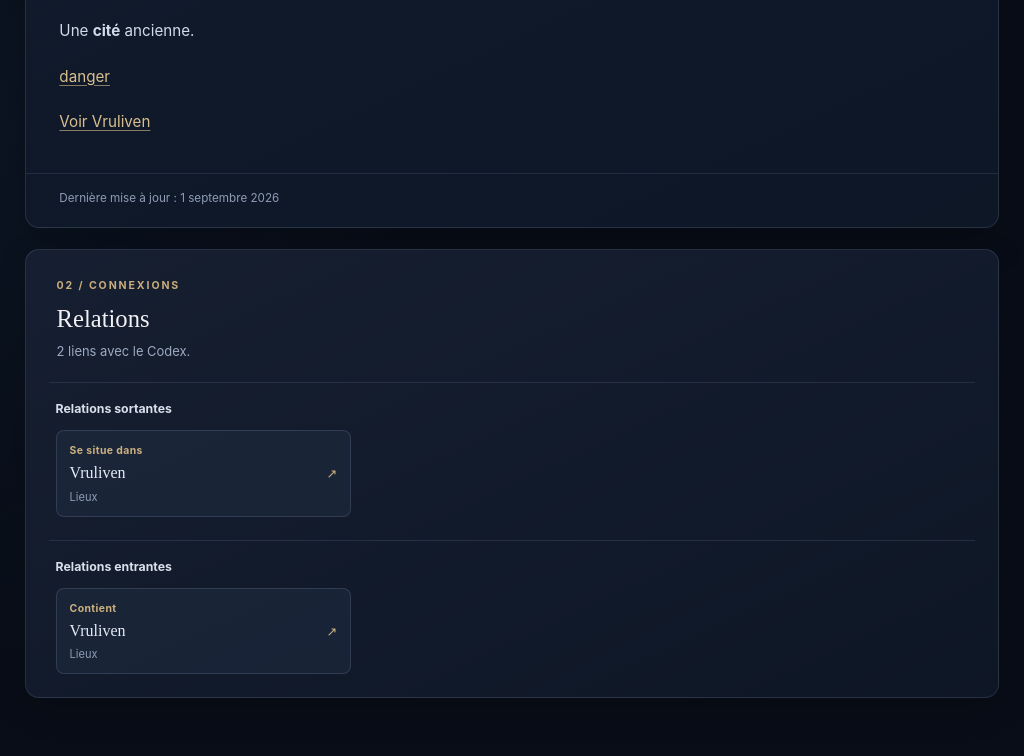
Test case: consultation publique › affiche les relations orientées et leurs libellés inverses
This screenshot has width=1024, height=756.
(page scrolled)
Check: the text "Se situe dans" is shown, box [70,444,143,458]
Check: the text "Contient" is shown, box [70,602,117,615]
Click the link "Vruliven ↗" below "Se situe dans".
click(98, 473)  # box [70,464,337,484]
(page scrolled)
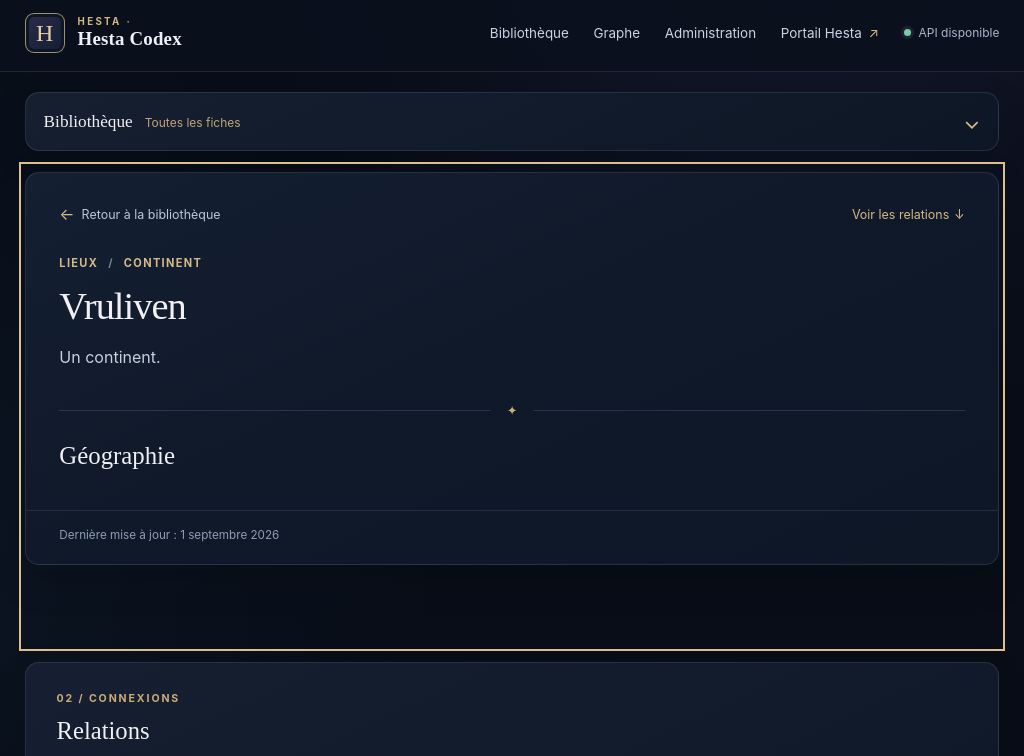
Check: the heading "Vruliven" is shown, box [59,285,186,327]
